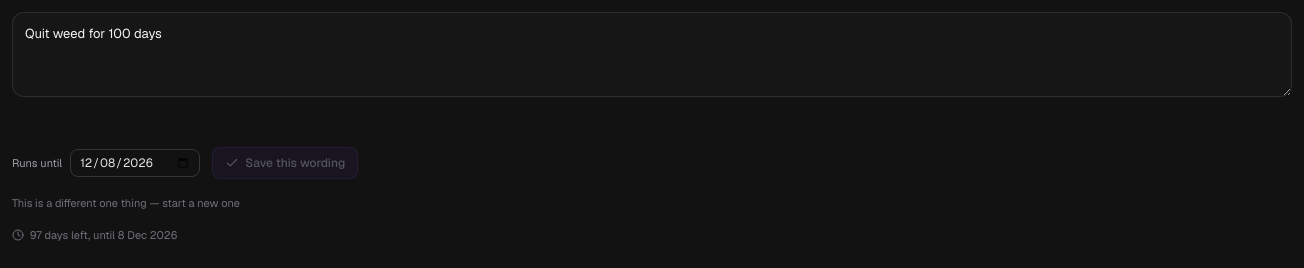
Test: amending, extending and starting are three different acts › lets you back out of starting a new one
Click the button with test id "one-thing-new": click(126, 204) [12,195,240,212]
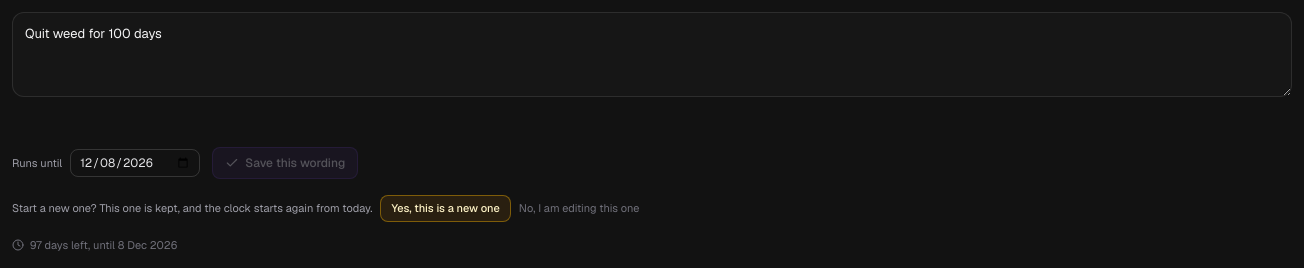
Click the button "No, I am editing this one": click(579, 209) [519,200,640,217]
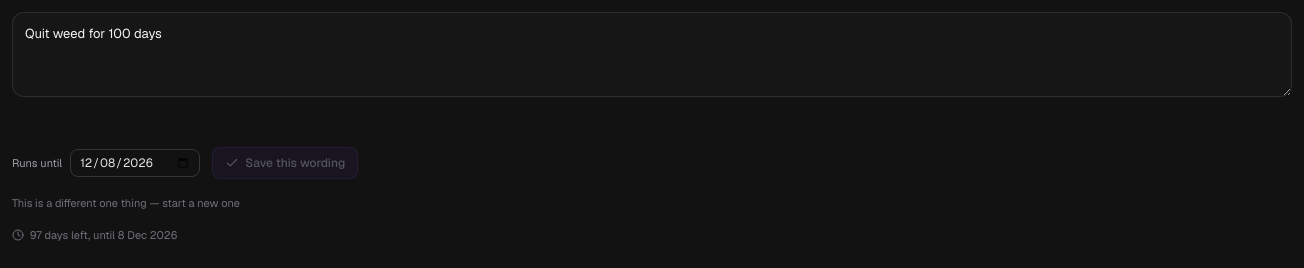
Check: the button with test id "one-thing-start-new" is gone
